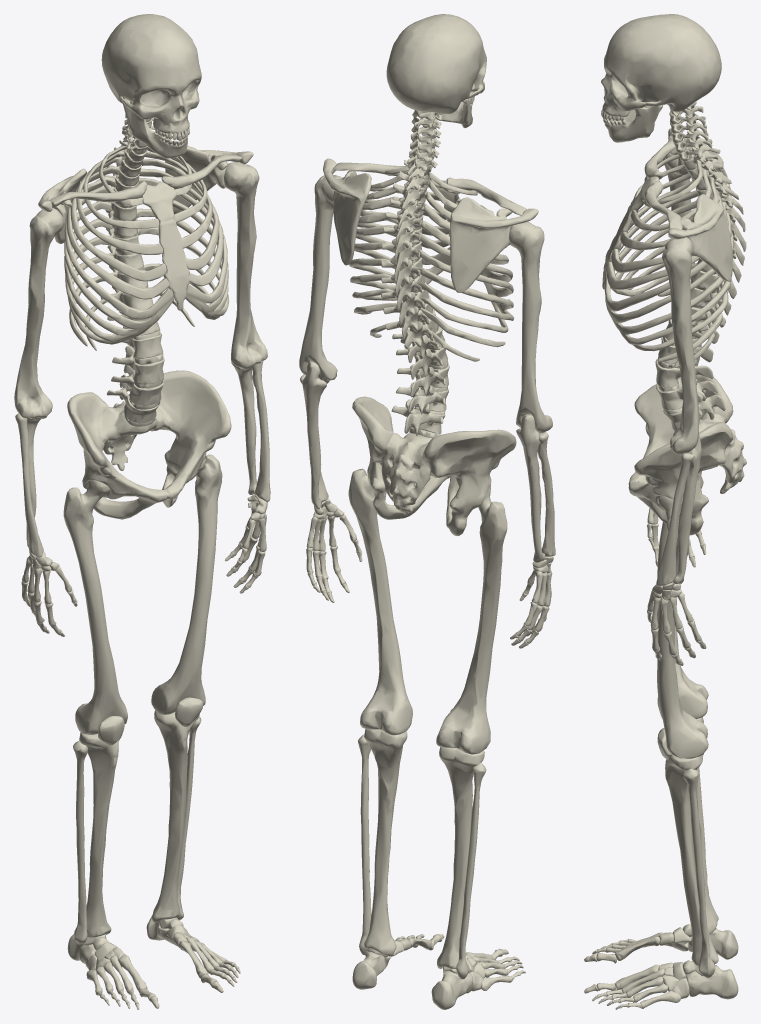
File: skeleton.glb
The picture shows the model from 3 angles, left to right: view 1: azimuth 30°, elevation 25°; view 2: azimuth 150°, elevation 25°; view 3: azimuth 270°, elevation 25°; orthographic projection.
Visible parts, largest first — view 1: udambu; view 2: udambu; view 3: udambu.
Boxes of the visible parts, x1=… form: udambu: x1=14, y1=14, x2=270, y2=1009; udambu: x1=299, y1=14, x2=555, y2=1009; udambu: x1=584, y1=14, x2=746, y2=1009.
Bounding box in the file's own units: 0.4753 × 1.75 × 0.2692.
